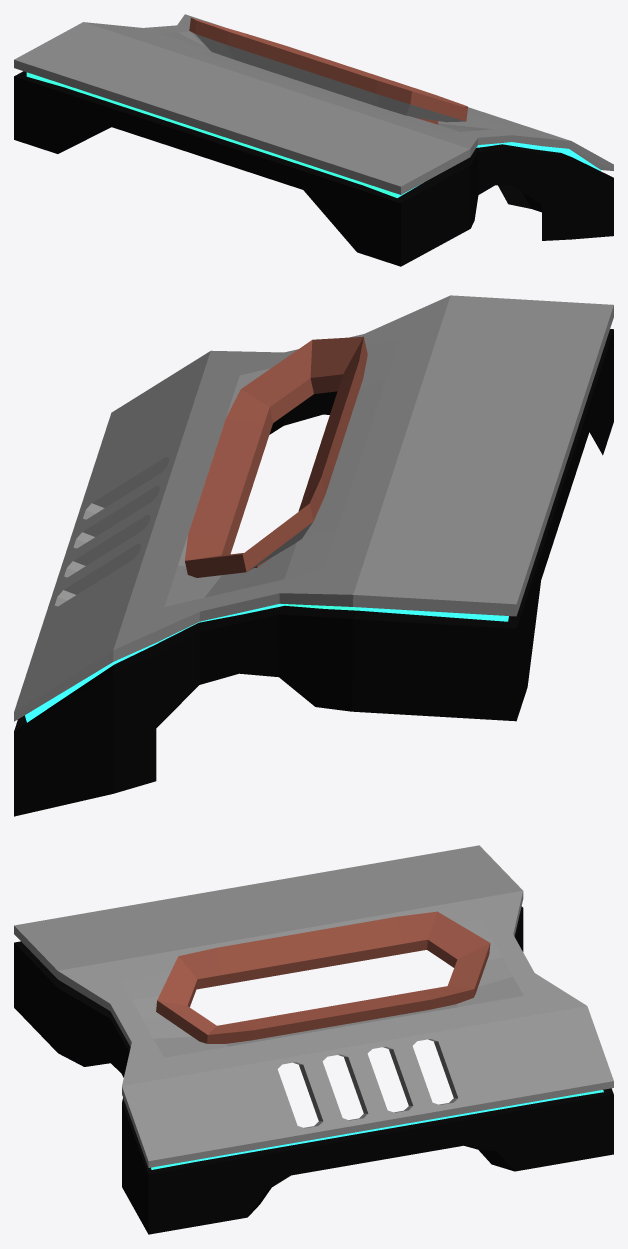
The model's file is engine_cover.glb.
3 renders of one model, top to bottom at view 1: azimuth 30°, elevation 25°; view 2: azimuth 150°, elevation 25°; view 3: azimuth 270°, elevation 25°, orthographic. The views are drawn at different scales.
Visible parts, largest first — view 1: cover; view 2: cover; view 3: cover.
Boxes of the visible parts, box(x1,y1,x2,y2) form: cover: box(14, 14, 613, 266); cover: box(14, 295, 613, 816); cover: box(14, 845, 613, 1234).
Size of the model in its own units: 0.6938 by 0.2729 by 0.8009.
